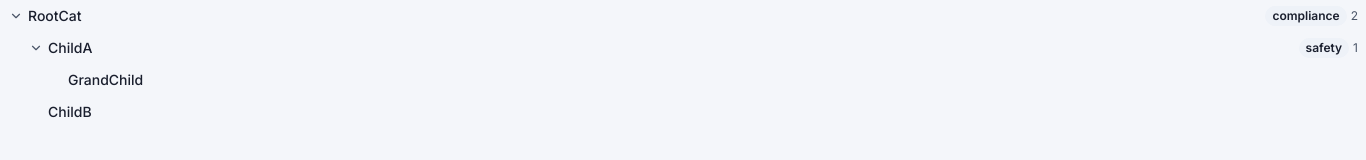
Test: CategoryTreeNode — expand and collapse › shows children by default and collapses them on toggle
The width and height of the screenshot is (1366, 160).
Expected: the text "ChildA" is shown, [48,39,92,56]
Expected: the text "ChildB" is shown, [48,103,92,120]
Click the button named "Toggle expand" next to "RootCat". click: point(16, 16)
box: [8,8,24,24]
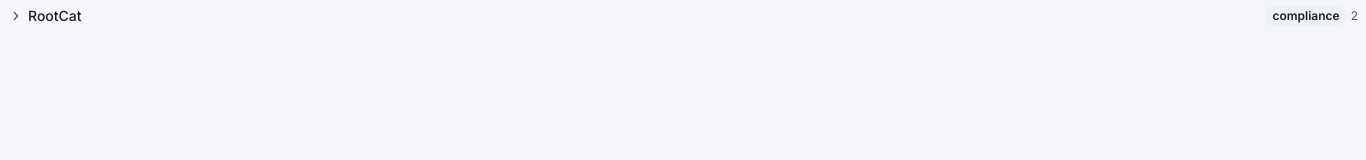
Now the text "ChildA" is gone
Now the text "ChildB" is gone
Now the button named "Toggle expand" is collapsed, box [8,8,24,24]
